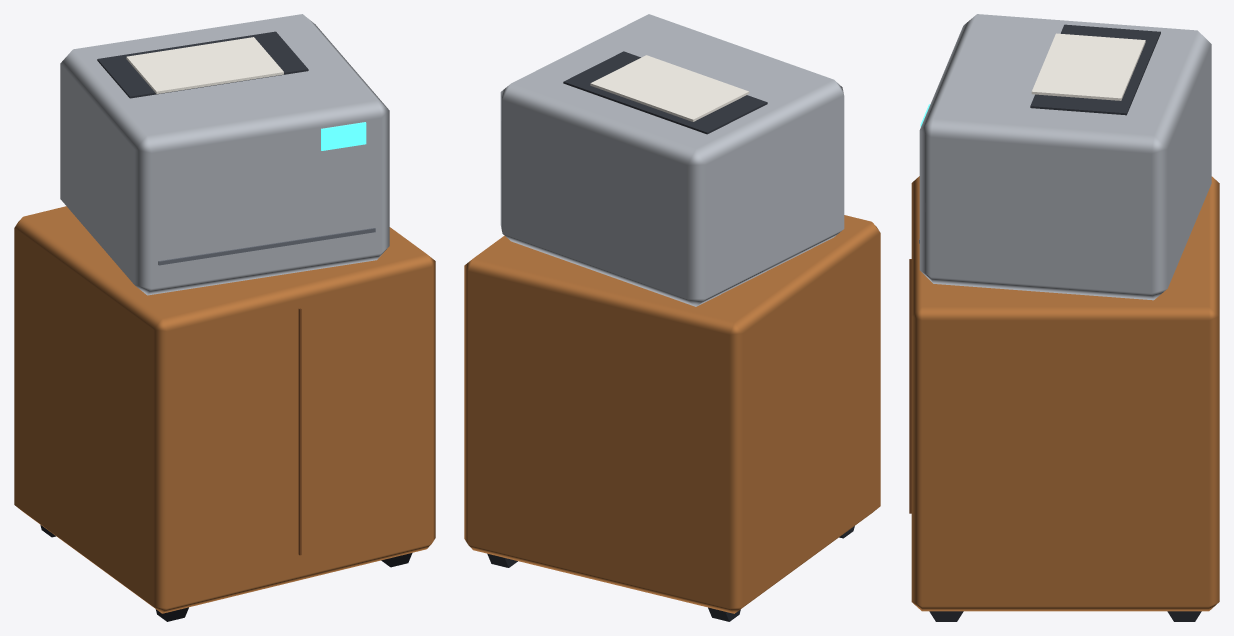
The model's file is station_intake_ausstattung_3_1.glb.
The picture shows the model from 3 angles, left to right: view 1: azimuth 30°, elevation 25°; view 2: azimuth 150°, elevation 25°; view 3: azimuth 270°, elevation 25°; orthographic projection. The views are drawn at different scales.
Parts seen in each view (by area): view 1: station_intake_ausstattung_3_1; view 2: station_intake_ausstattung_3_1; view 3: station_intake_ausstattung_3_1.
Part boxes in pixels (x1,y1,x2,y2): station_intake_ausstattung_3_1: (14, 14, 435, 621); station_intake_ausstattung_3_1: (464, 14, 880, 621); station_intake_ausstattung_3_1: (909, 14, 1219, 621).
Bounding box in the file's own units: 0.48 × 0.774 × 0.443.
